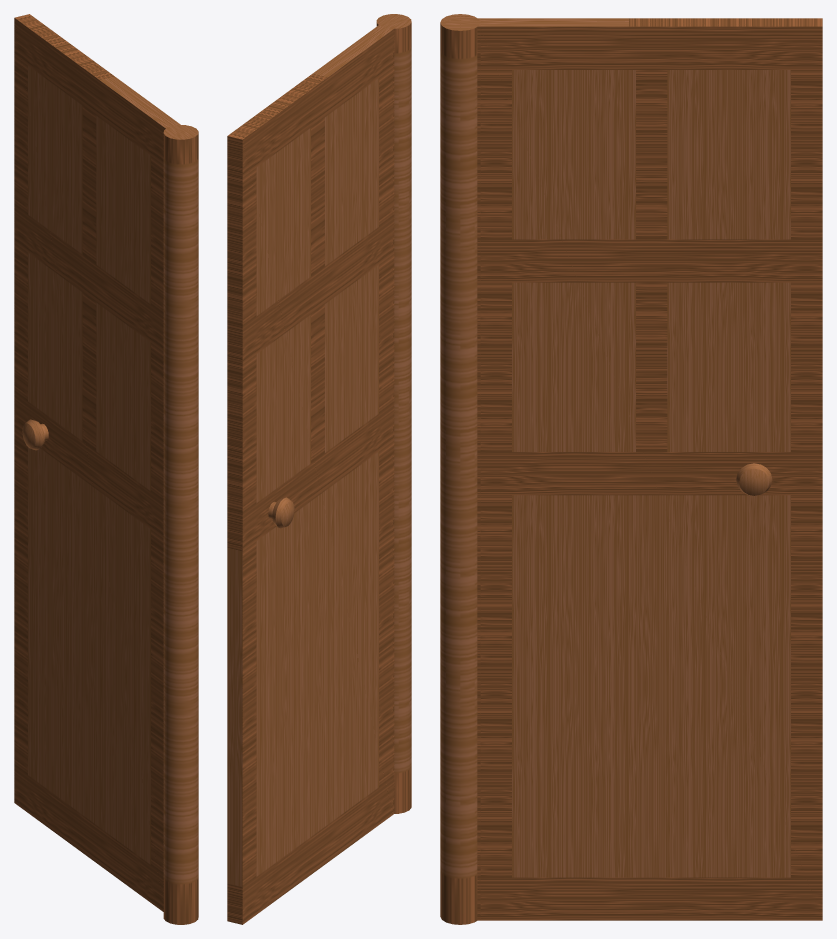
Rendered from PuertaInterior.fbx.
3 views of the same model, side by side, from view 1: azimuth 30°, elevation 25°; view 2: azimuth 150°, elevation 25°; view 3: azimuth 270°, elevation 25° (orthographic). The views are drawn at different scales.
Parts seen in each view (by area): view 1: PuertaInterior; view 2: PuertaInterior; view 3: PuertaInterior.
Boxes of the visible parts, x1,y1,x2,y2 form: PuertaInterior: [14, 14, 198, 924]; PuertaInterior: [227, 14, 411, 924]; PuertaInterior: [440, 14, 822, 924].
Size of what is drawn, in the model's own units: 95 by 17 by 245.
